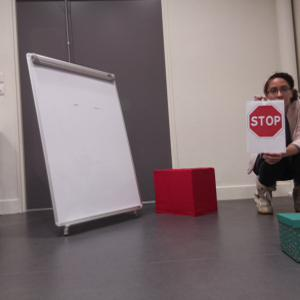big: (25, 50, 144, 236)
medium: (153, 168, 217, 216)
small: (277, 210, 300, 264)
